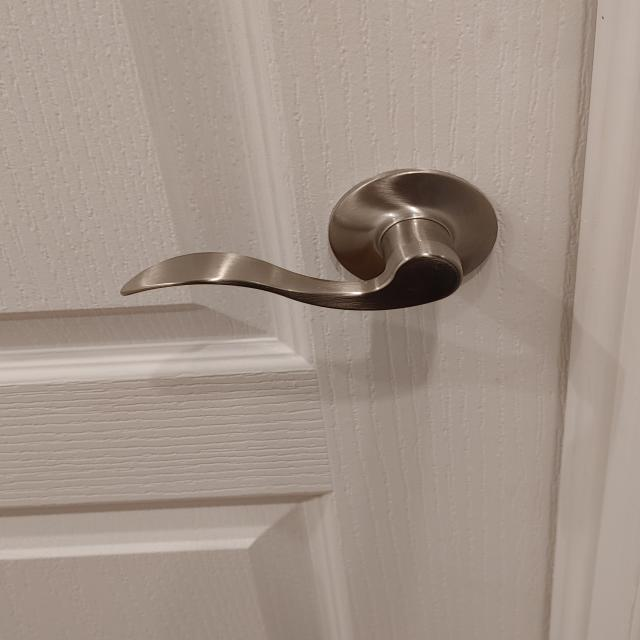door-handle: (122, 169, 497, 310)
